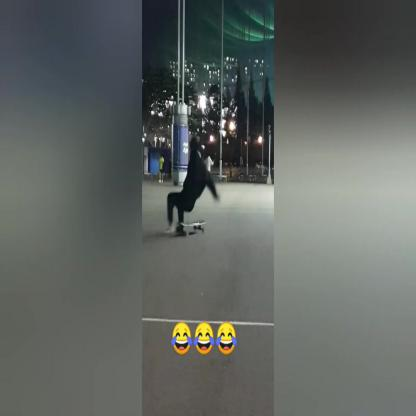Fall_Down: (161, 136, 221, 240)
